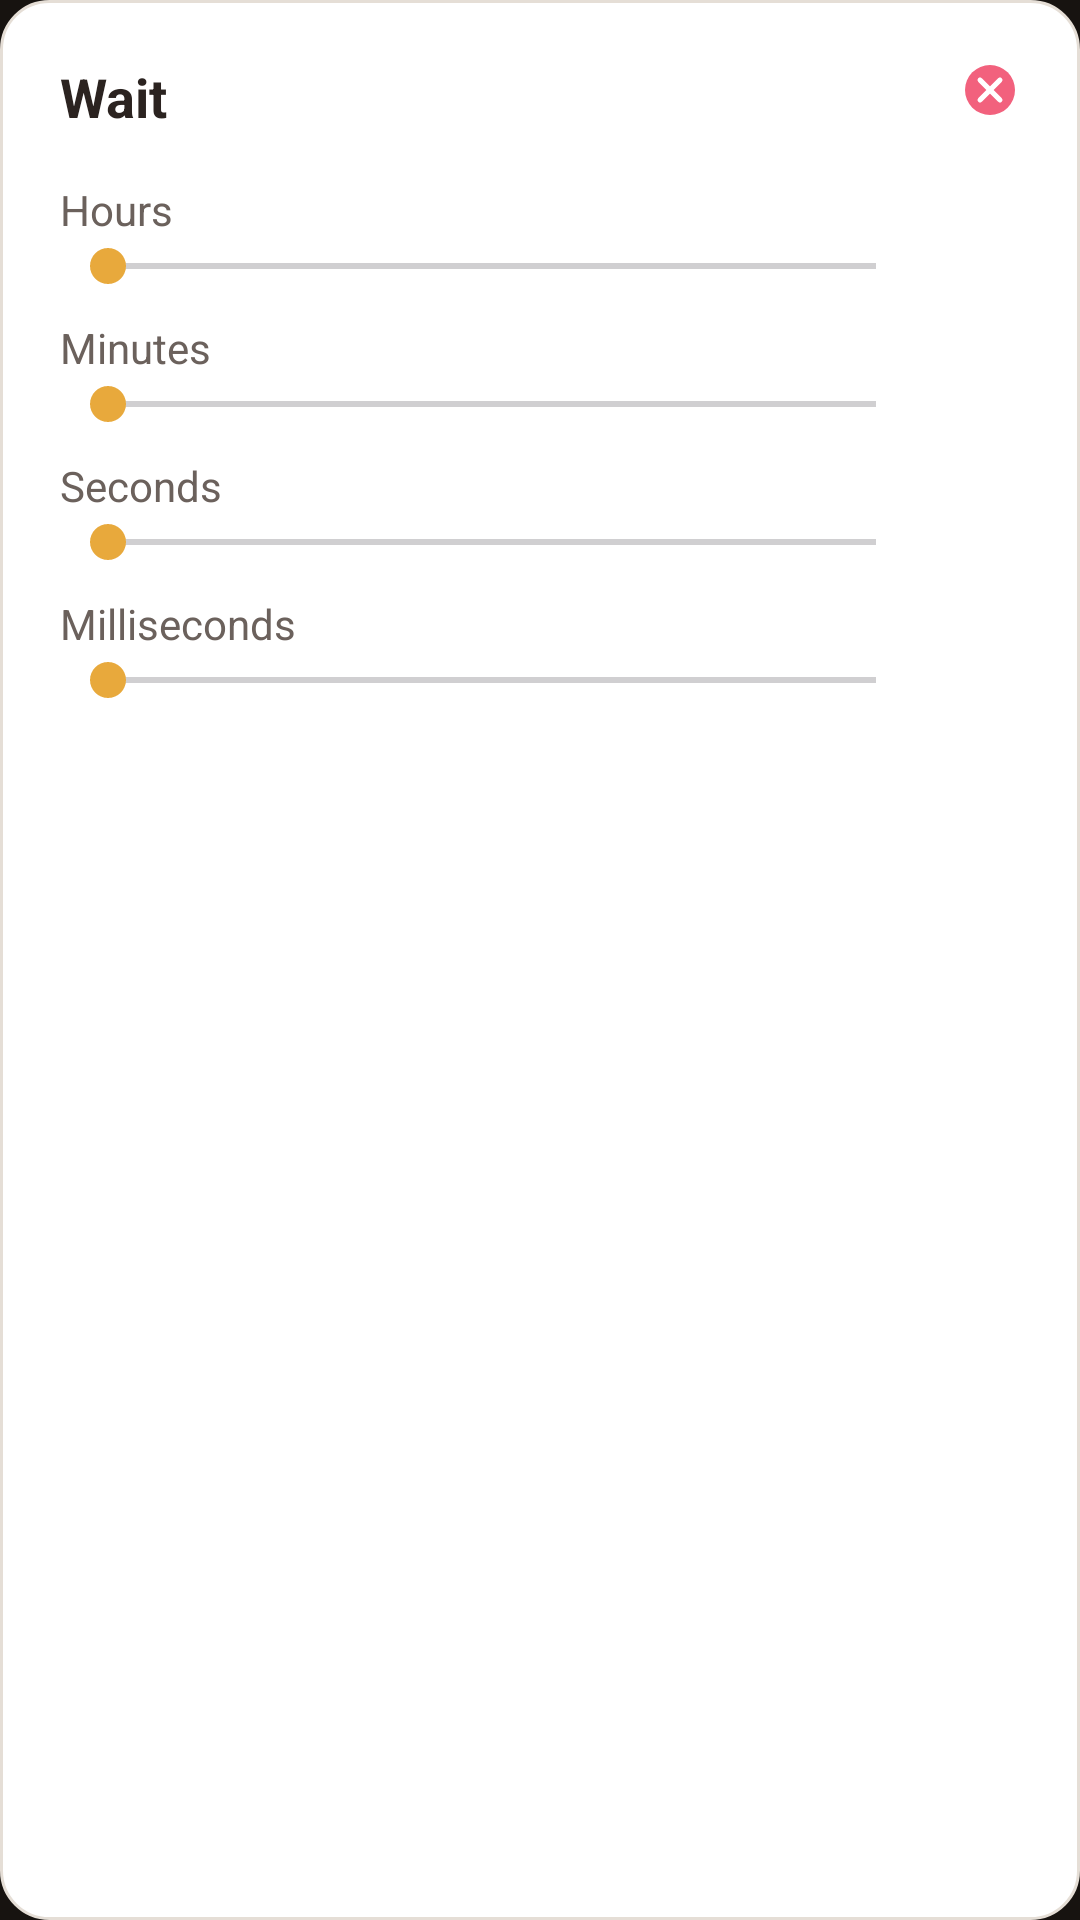

Where to tap for icons on this 1080*1920 app screen, as (x,y):
close: (990,90)
